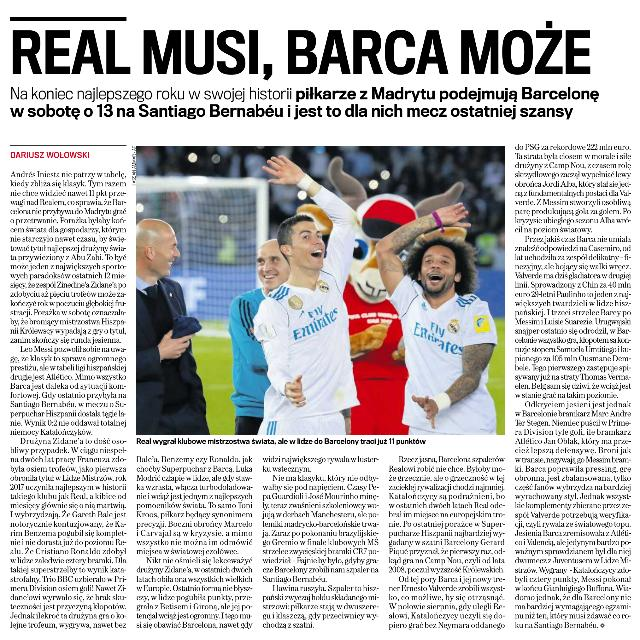author: (8, 148, 96, 162)
body: (508, 142, 640, 632), (5, 168, 130, 632), (384, 451, 508, 633), (134, 452, 256, 632), (260, 452, 382, 632)
caption: (135, 437, 441, 448)
image: (134, 142, 506, 436)
lead: (7, 84, 616, 122)
title: (8, 20, 606, 81)
